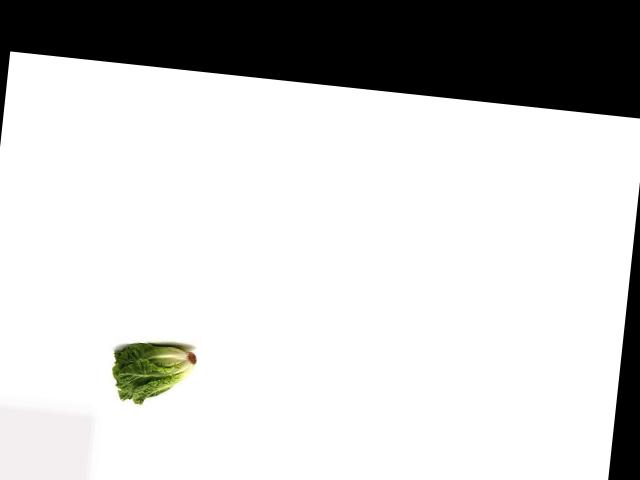lettuce: (109, 337, 201, 410)
